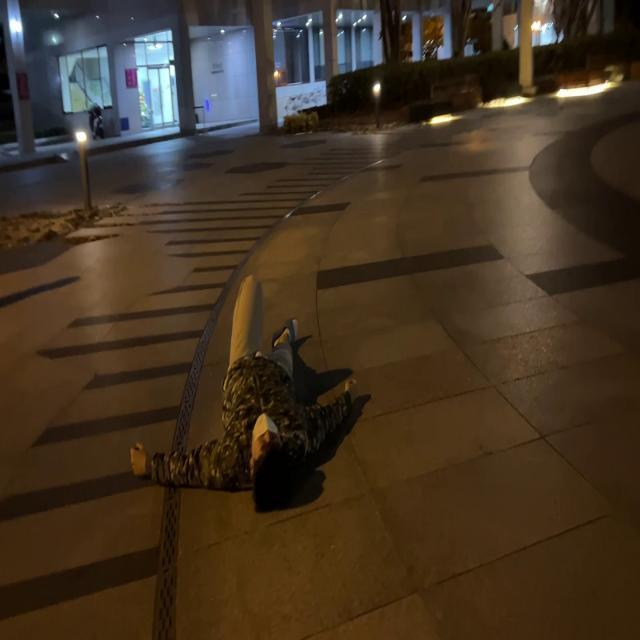Fall: (130, 275, 361, 510)
